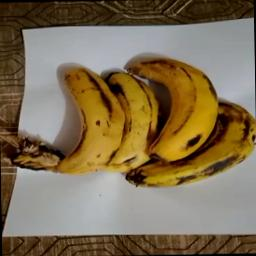Banana Unripe: (24, 58, 127, 188), (130, 42, 220, 166), (107, 117, 256, 191), (98, 57, 158, 179)
